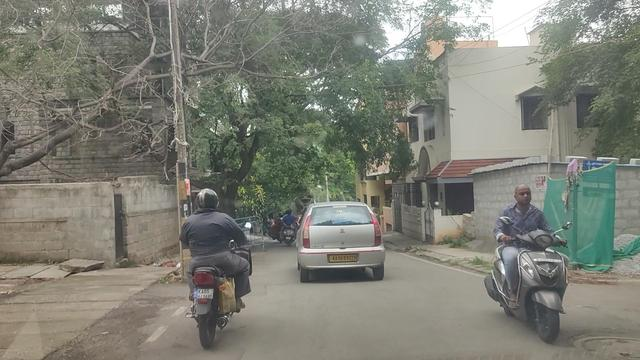LMV: (489, 185, 566, 342), (175, 188, 248, 344), (292, 201, 386, 286)
RoadDamages: (575, 314, 640, 360)
